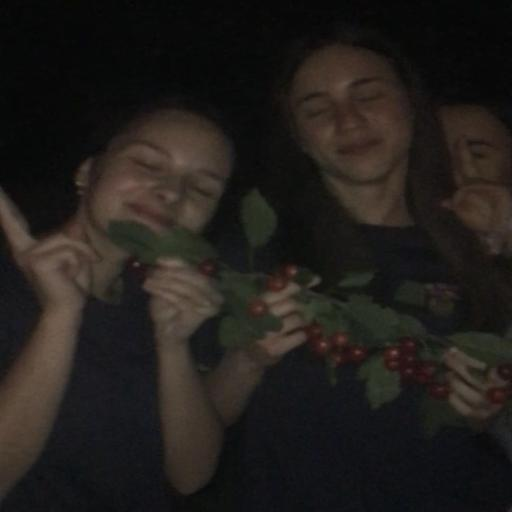marija: (106, 107, 226, 228)
masa: (293, 43, 409, 179)
